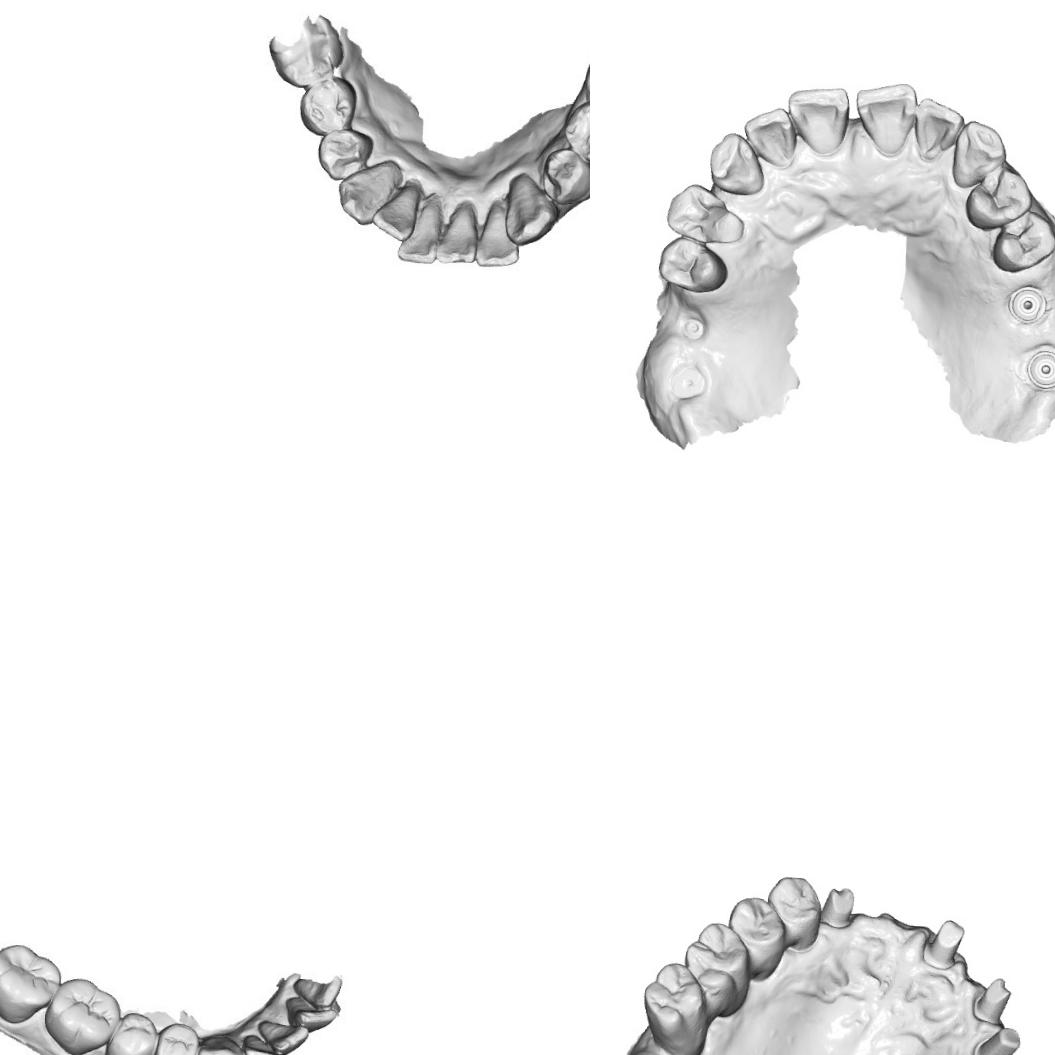abutment: (969, 974, 1014, 1025), (925, 916, 966, 970), (818, 884, 855, 930), (969, 1024, 1022, 1055)
canine: (948, 116, 1010, 192), (501, 172, 558, 250), (706, 128, 767, 198), (339, 162, 399, 224), (193, 1032, 244, 1055)
implant: (1004, 280, 1052, 327), (666, 362, 709, 402), (1026, 345, 1055, 391), (677, 310, 710, 344)
incisor: (851, 78, 918, 158), (783, 81, 852, 158), (740, 102, 798, 170), (909, 95, 966, 164), (438, 198, 480, 265), (373, 182, 419, 242), (401, 198, 442, 262), (478, 202, 520, 264), (280, 992, 342, 1031), (256, 1017, 308, 1055), (243, 1029, 284, 1055)
molar: (679, 918, 753, 1018), (638, 959, 710, 1055), (46, 974, 118, 1050), (268, 14, 341, 83), (0, 943, 60, 1019)
premolar: (664, 179, 746, 247), (962, 162, 1036, 233), (724, 894, 786, 976), (652, 232, 730, 295), (989, 207, 1055, 277), (765, 874, 822, 953), (302, 77, 363, 134), (536, 145, 590, 208), (321, 129, 369, 177), (110, 1013, 152, 1055), (566, 100, 590, 168), (155, 1024, 196, 1055)
